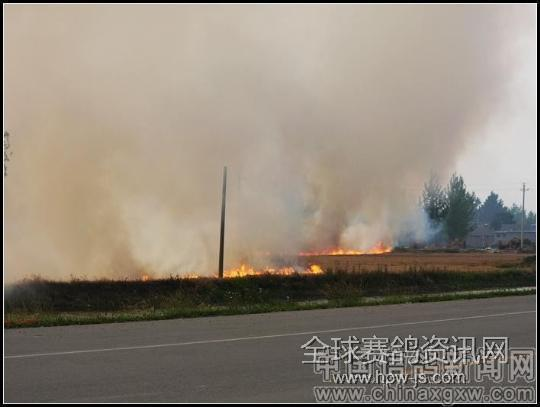fire: (219, 259, 327, 279), (295, 240, 397, 258), (168, 266, 218, 279), (138, 264, 150, 284)
